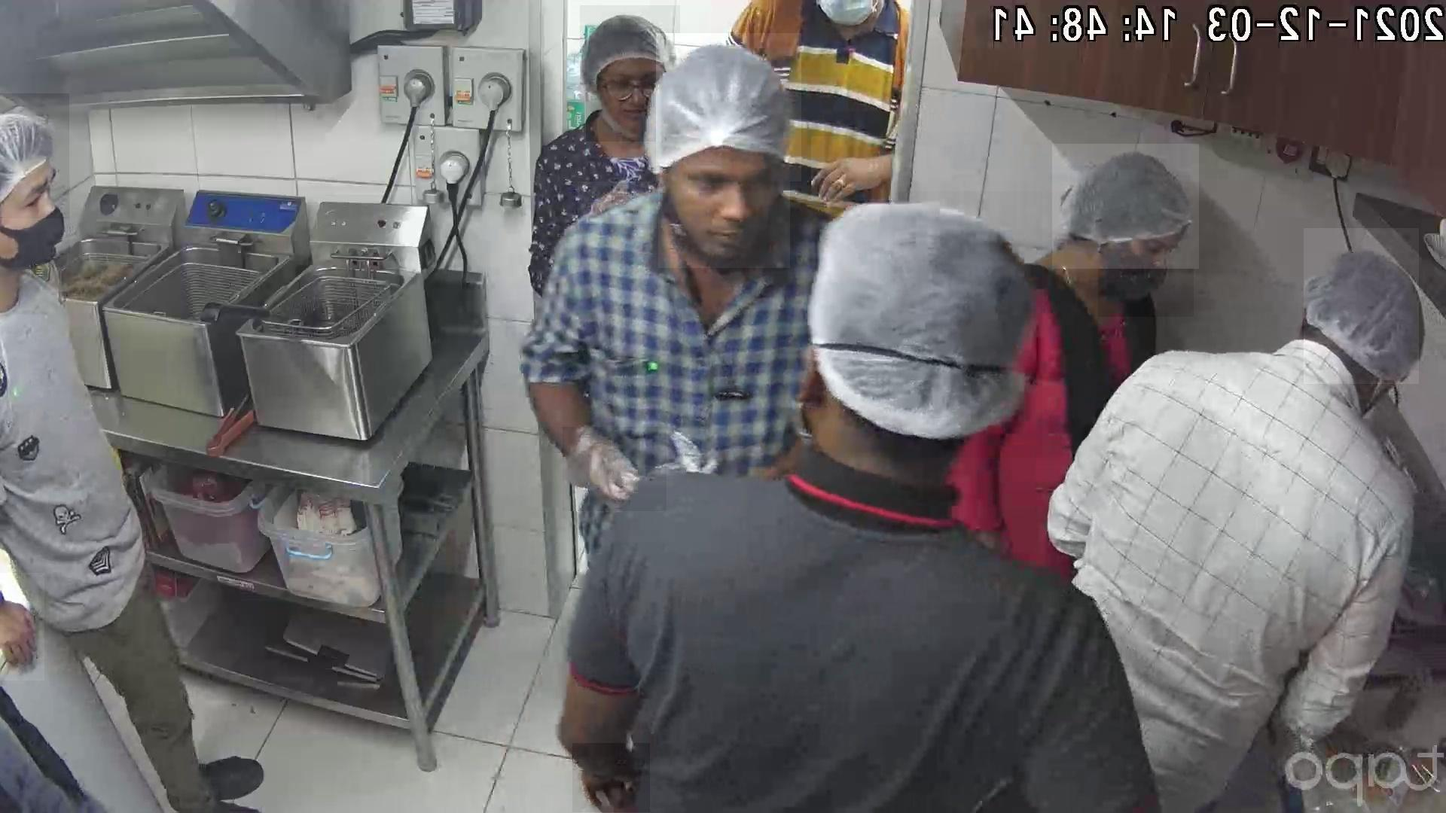apron: (563, 427, 667, 512), (578, 181, 651, 224)
gloves: (816, 192, 1042, 458), (656, 33, 801, 182), (1053, 144, 1200, 269), (1304, 229, 1419, 385), (0, 93, 69, 218), (581, 6, 681, 85)
mask: (1099, 213, 1194, 317), (1, 177, 71, 268)
no_apron: (812, 136, 898, 200), (573, 744, 651, 813), (0, 573, 44, 681)
no_hairnet: (659, 133, 790, 268), (586, 64, 659, 142)
